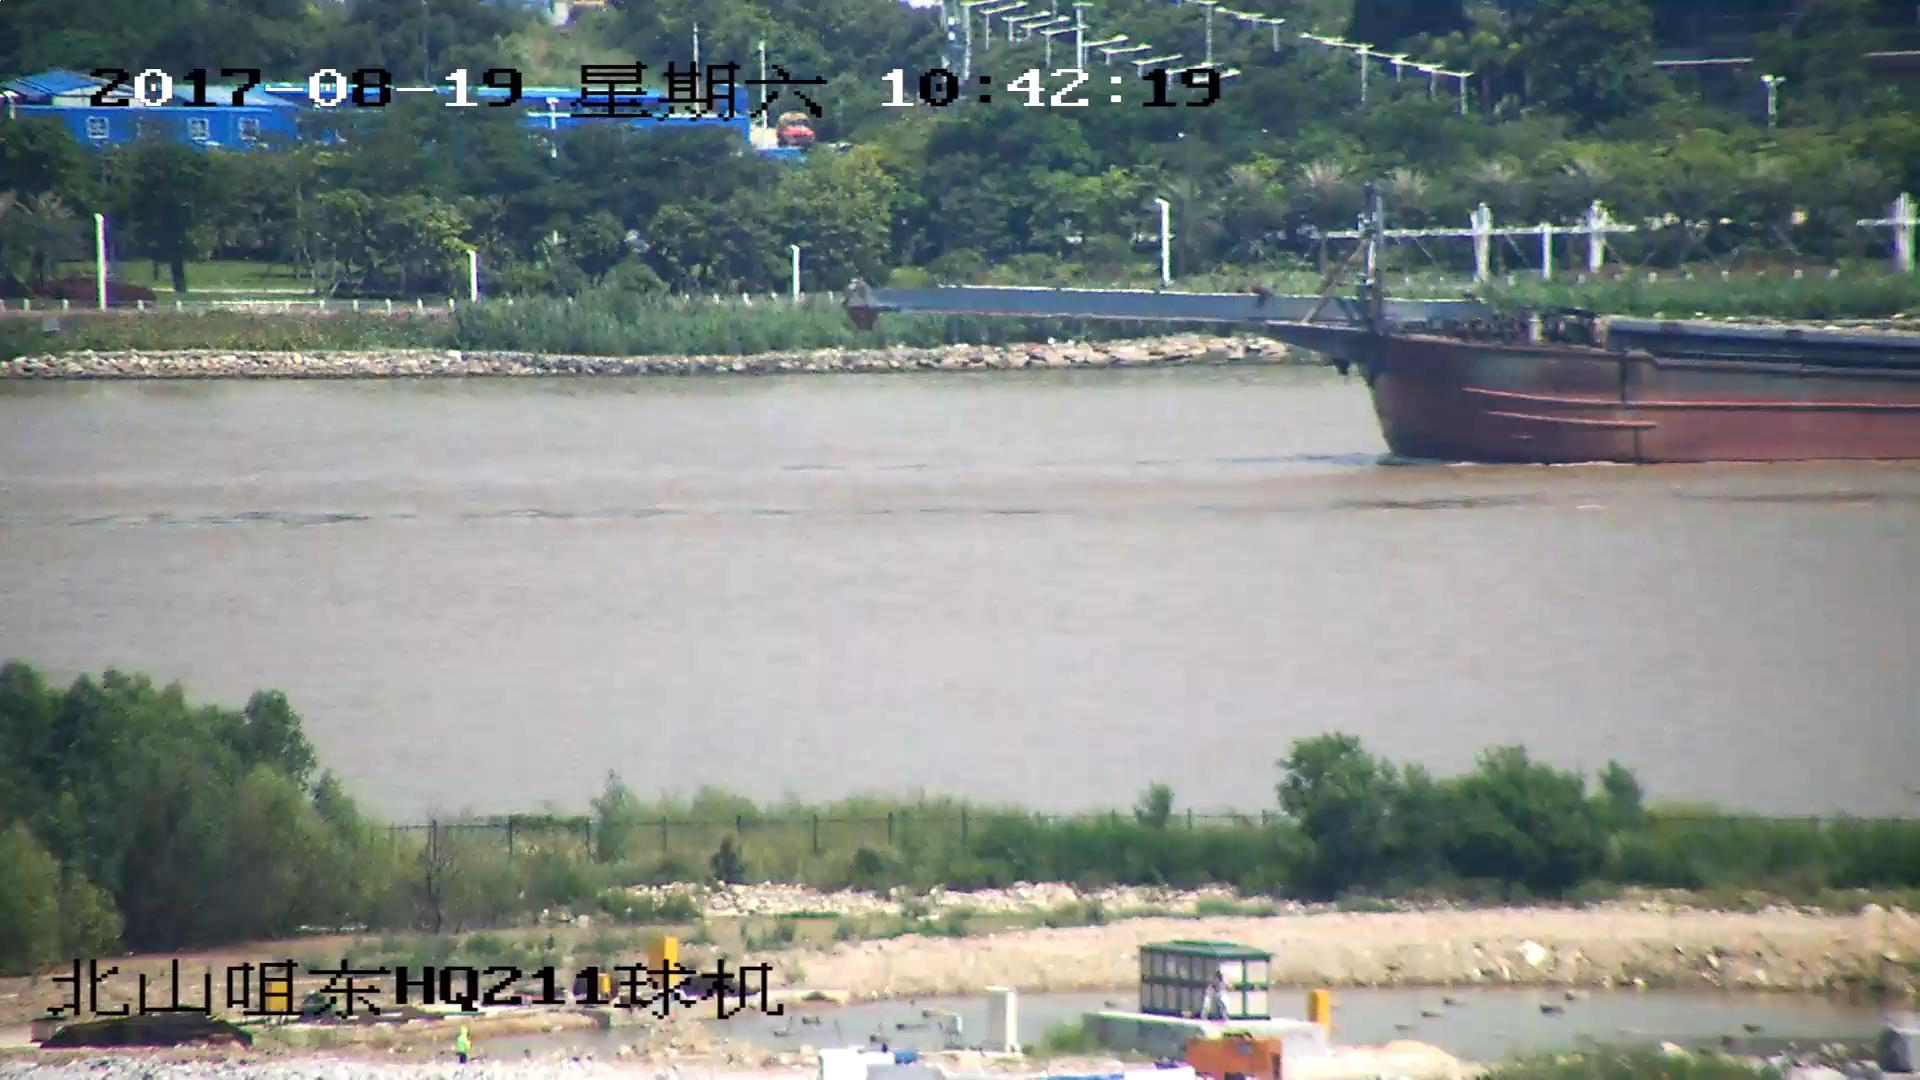Ship: (843, 212, 1920, 465)
